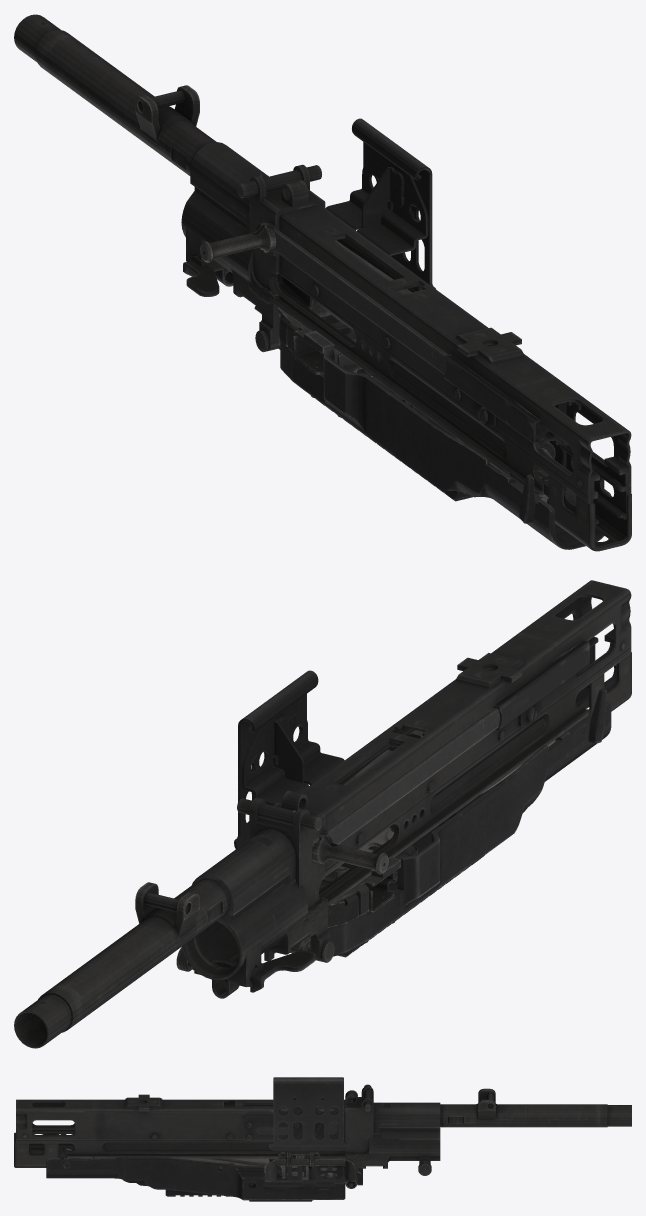
3 views of the same model, one above another, from view 1: azimuth 30°, elevation 25°; view 2: azimuth 150°, elevation 25°; view 3: azimuth 270°, elevation 25° (orthographic). The views are drawn at different scales.
Visible parts, largest first — view 1: TW_65fb023261d5829b2d090755_PZ_Import; view 2: TW_65fb023261d5829b2d090755_PZ_Import; view 3: TW_65fb023261d5829b2d090755_PZ_Import.
Boxes of the visible parts, x1,y1,x2,y2 form: TW_65fb023261d5829b2d090755_PZ_Import: (14, 14, 631, 551); TW_65fb023261d5829b2d090755_PZ_Import: (14, 580, 631, 1048); TW_65fb023261d5829b2d090755_PZ_Import: (14, 1077, 631, 1201).
Size of the model in its own units: 0.0646 by 0.3955 by 0.0922.
Materials: 1 (1 with a texture image).
